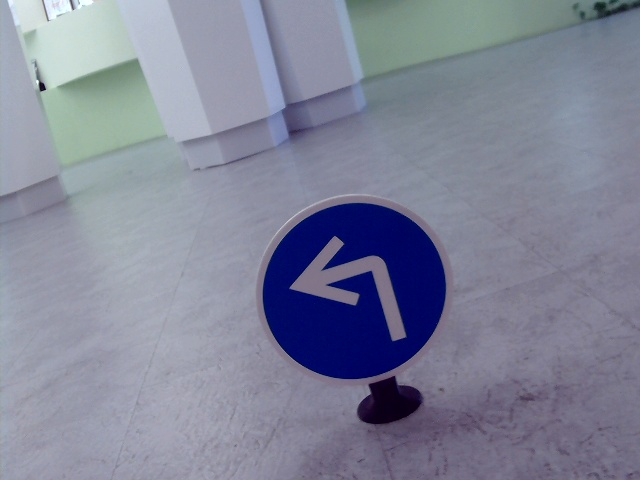turn_left: (290, 235, 416, 345)
